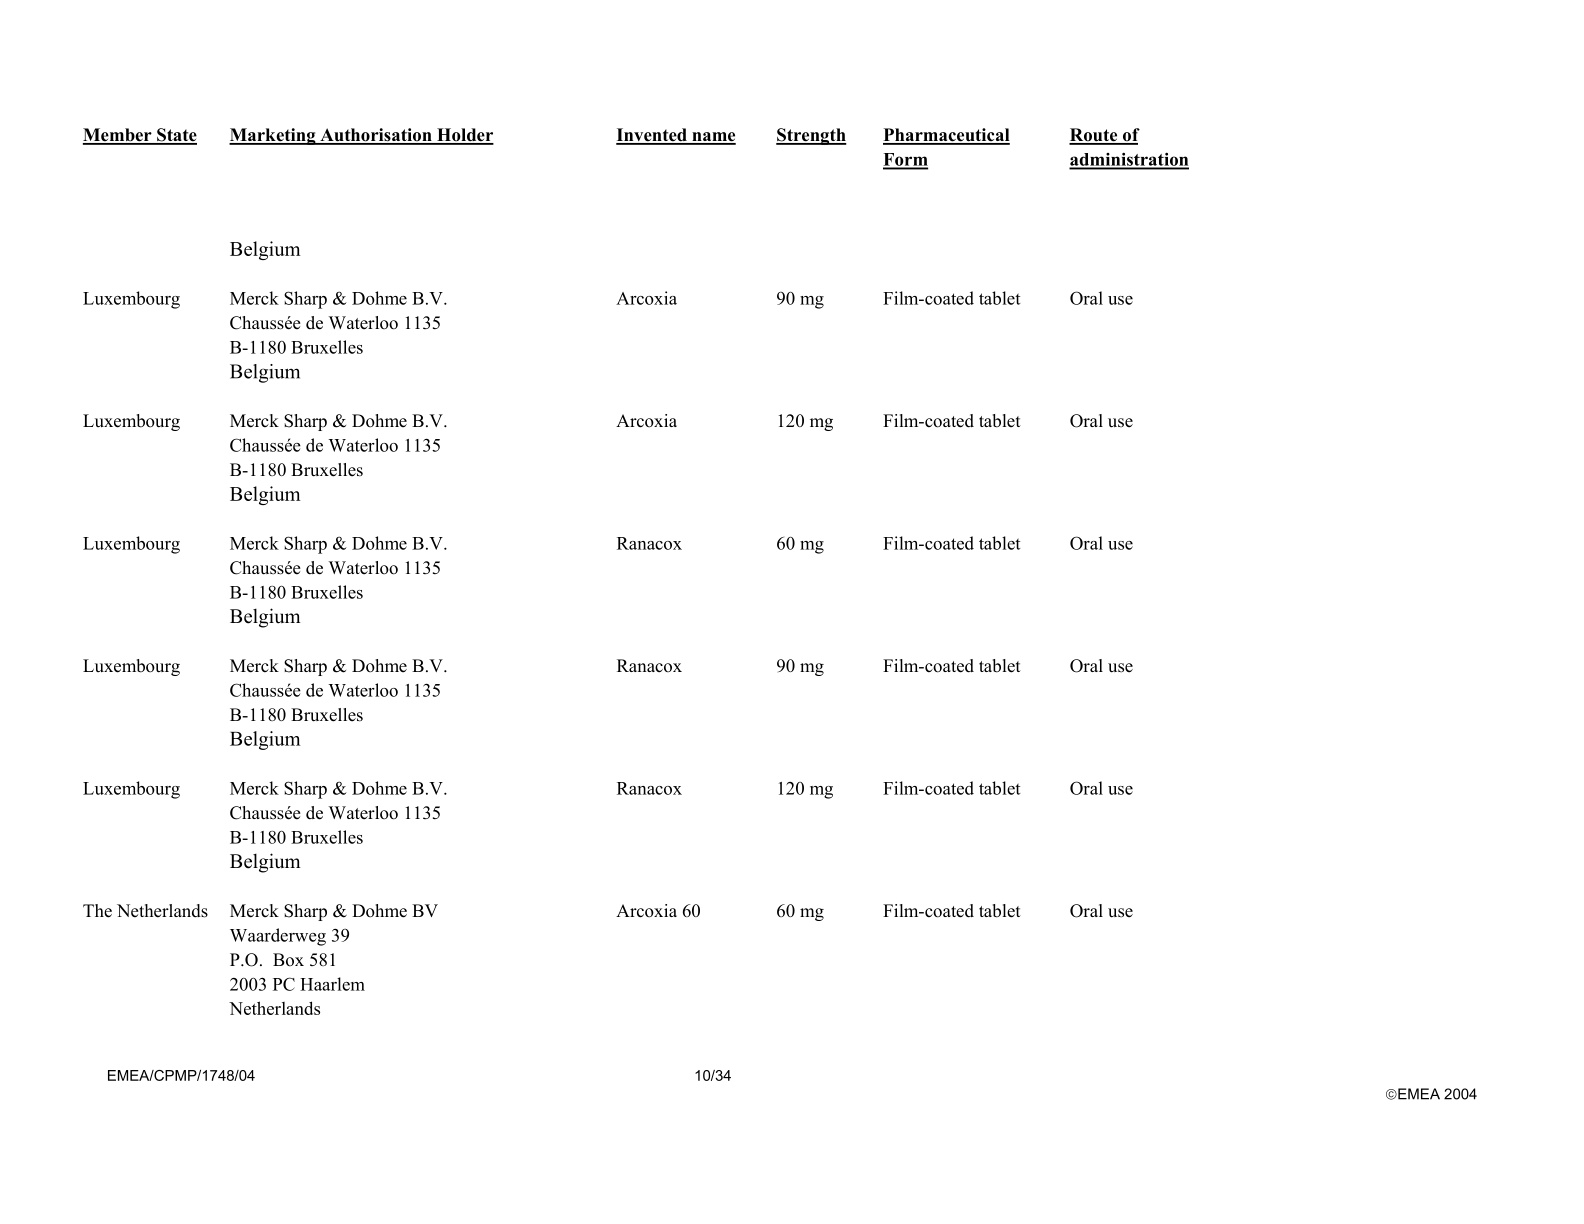nolines: (81, 123, 1188, 1020)
